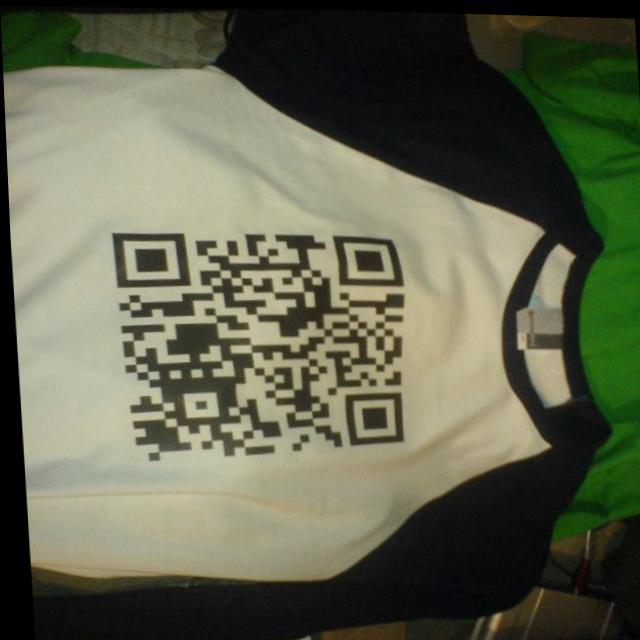qrcode: (111, 227, 410, 468)
